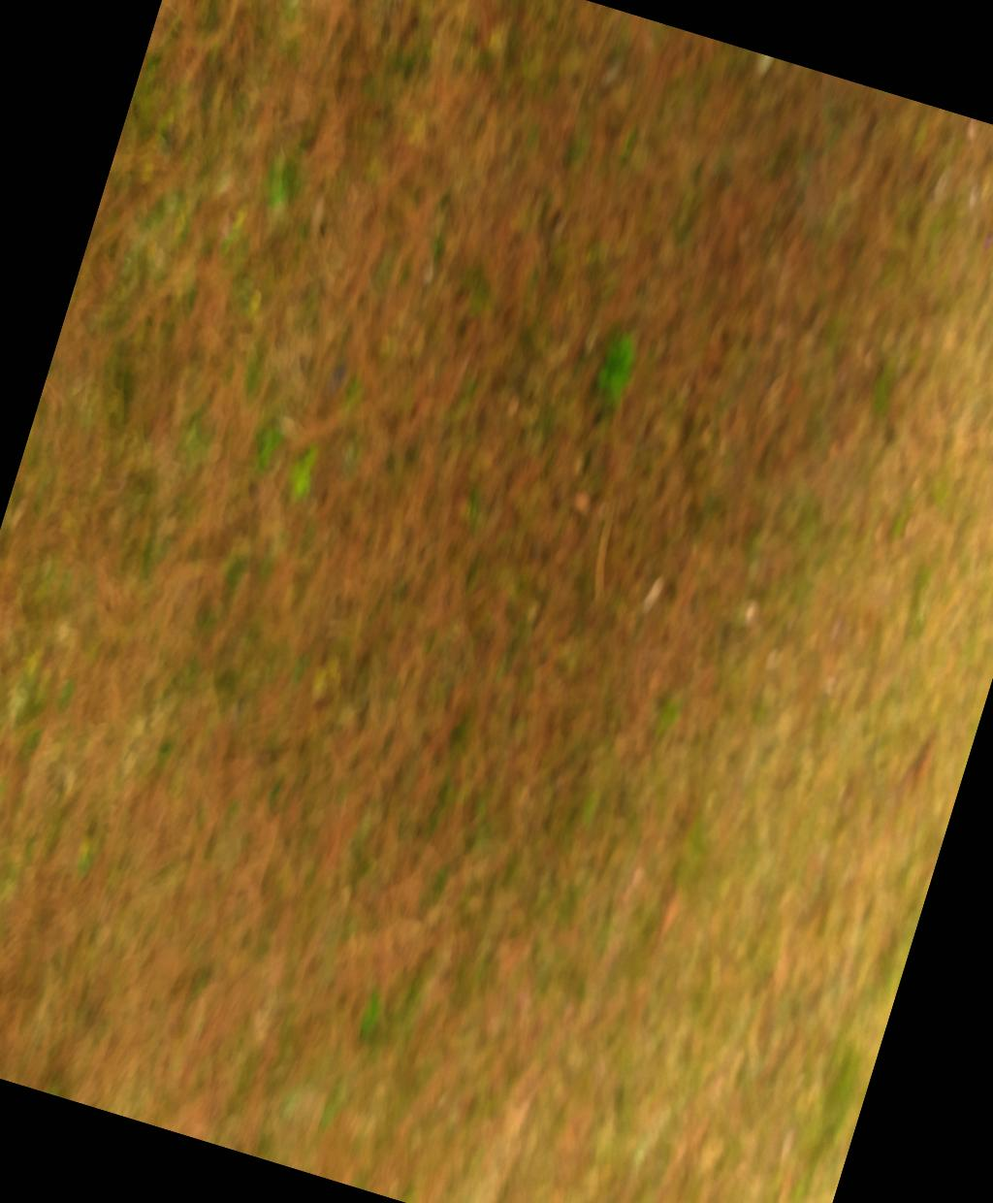dent: (575, 1166, 726, 1203)
